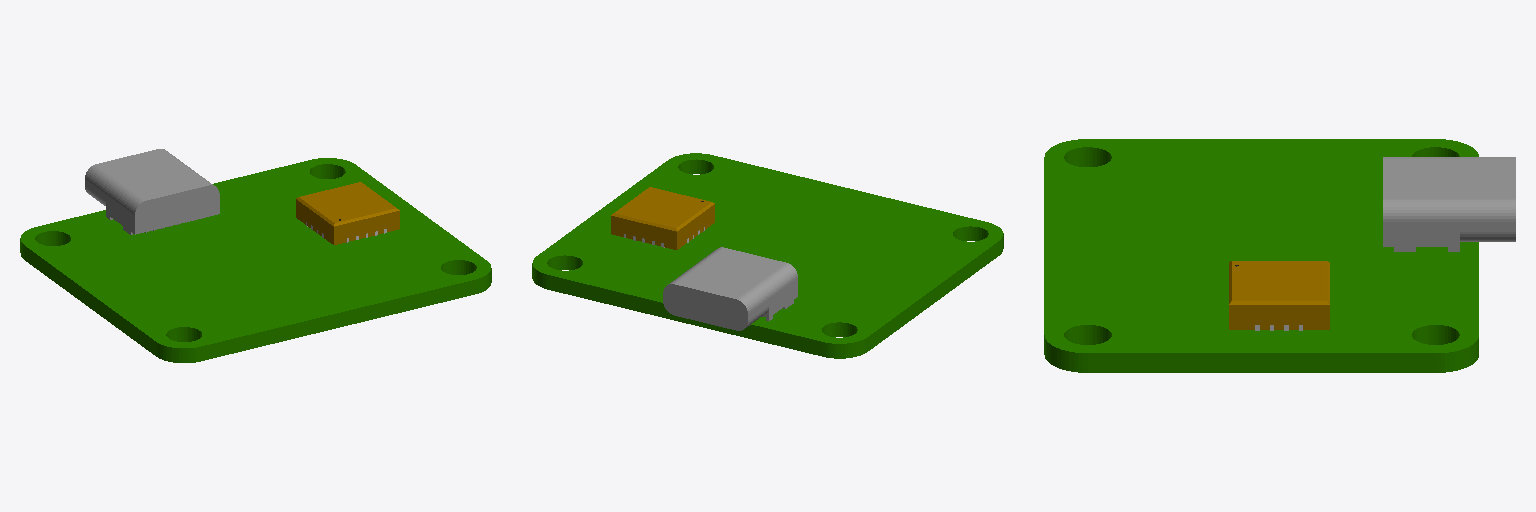
URDF robot description (tr_imu16607):
<?xml version="1.0"?>
<robot name="tr_imu16607">
  <link name="imu">
    <visual>
      <origin rpy="0 0 0" xyz="0 0 0"/>
      <geometry>
        <mesh filename="package://adi_imu_tr_driver_ros2/meshes/tr_imu16607.dae"/>
      </geometry>
    </visual>
  </link>
</robot>

--- What the picture shows (computed from the rendered views, not written in the file) ---
Views: 3 orthographic renders of the robot side by side, from view 1: azimuth 30°, elevation 25°; view 2: azimuth 150°, elevation 25°; view 3: azimuth 270°, elevation 25°.
Model tr_imu16607 with 1 links and 0 joints (none), rooted at imu, posed all joints at 0.
Links seen in each view (by area): view 1: imu; view 2: imu; view 3: imu.
Boxes of the visible links, x1=… form: imu: x1=20, y1=149, x2=491, y2=362; imu: x1=532, y1=153, x2=1003, y2=358; imu: x1=1044, y1=139, x2=1515, y2=372.
Bounding box of the posed robot: 0.035 × 0.0325 × 0.0056 m (x, y, z).
1 mesh visuals loaded from 1 distinct referenced files (1 Collada DAE).
